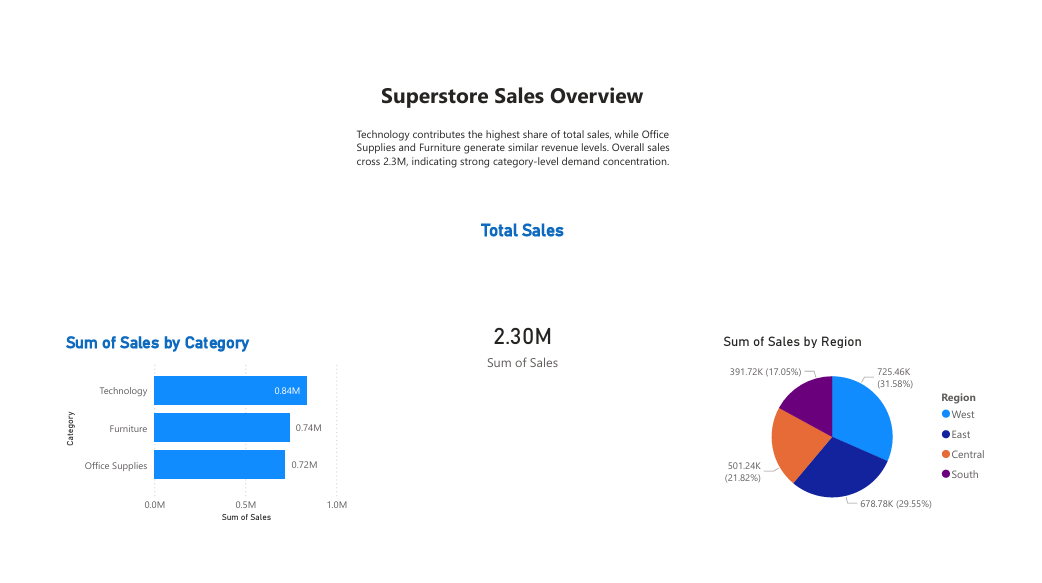

Layout of this report page (visuals, bound fields, positions):
{"tool":"powerbi","page":{"name":"Sales Overview","canvas":[1280,720],"ordinal":0},"visuals":[{"type":"clusteredBarChart","fields":{"Category":["Orders.Category"],"Y":["Sum(Orders.Sales)"]},"box":[57.3,401.1,368.8,243.9],"z":0},{"type":"card","title":"Total Sales","fields":{"Values":["Sum(Orders.Sales)"]},"box":[454,258.6,371.8,285.1],"z":1000},{"type":"pieChart","fields":{"Category":["Orders.Region"],"Y":["Sum(Orders.Sales)"]},"box":[889,401.1,351.2,243.9],"z":2000},{"type":"textbox","box":[455.5,76.4,368.8,45.6],"z":2001},{"type":"textbox","box":[424.7,135.2,432,66.1],"z":2002}]}

Visuals, with their boxes in screenshot pixels (x1, y1, x2, y2), scaled from the page's 1280x720 canvas onto the 1042x583 screenshot:
clusteredBarChart - Orders.Category x Sum(Orders.Sales): [x1=47, y1=325, x2=347, y2=522]
"Total Sales" card: [x1=370, y1=209, x2=672, y2=440]
pieChart - Orders.Region x Sum(Orders.Sales): [x1=724, y1=325, x2=1010, y2=522]
textbox: [x1=371, y1=62, x2=671, y2=99]
textbox: [x1=346, y1=109, x2=697, y2=163]
